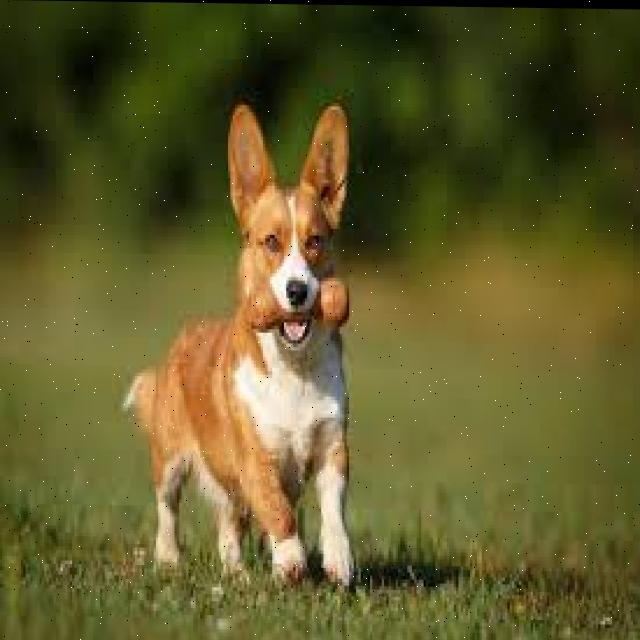CORGI: (99, 88, 371, 595)
